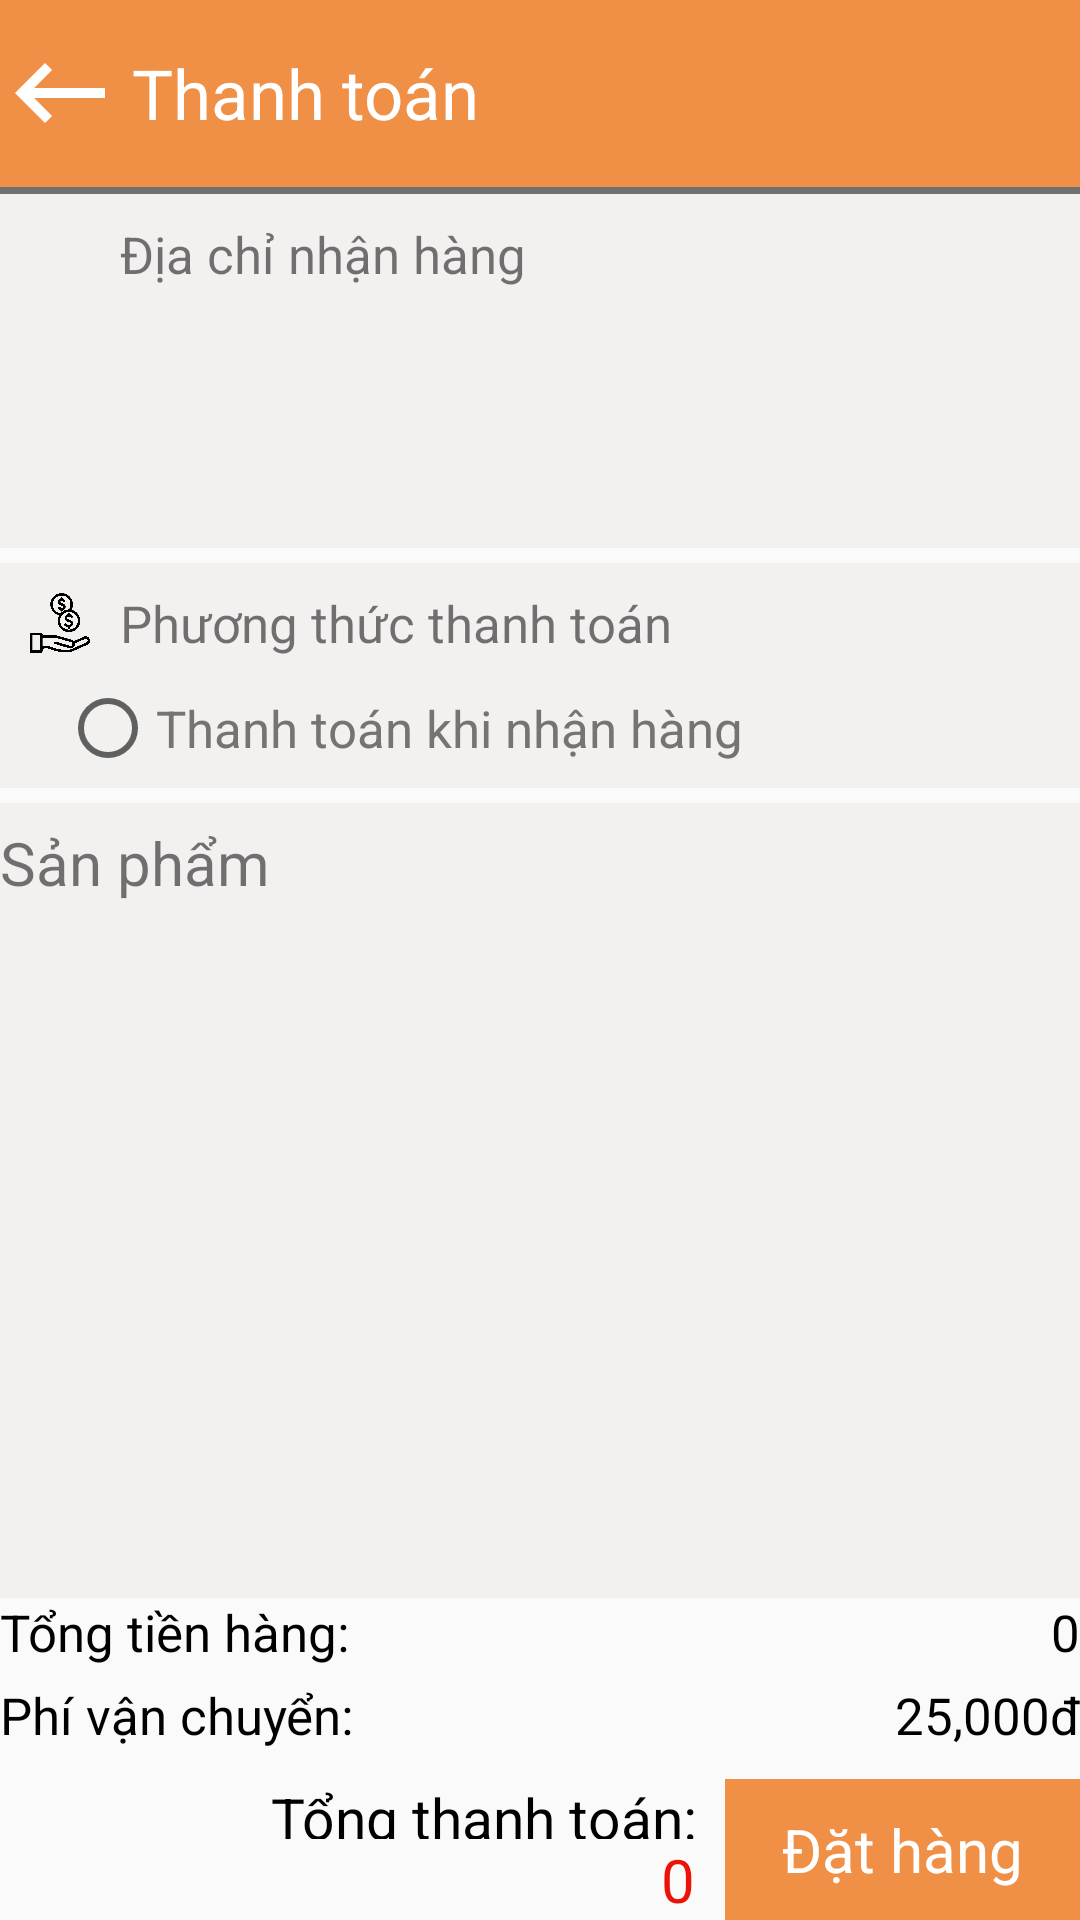

Icons on this 1080px x 1920px Android screen, each with the point to tap as point (x, y):
money: point (60, 623)
